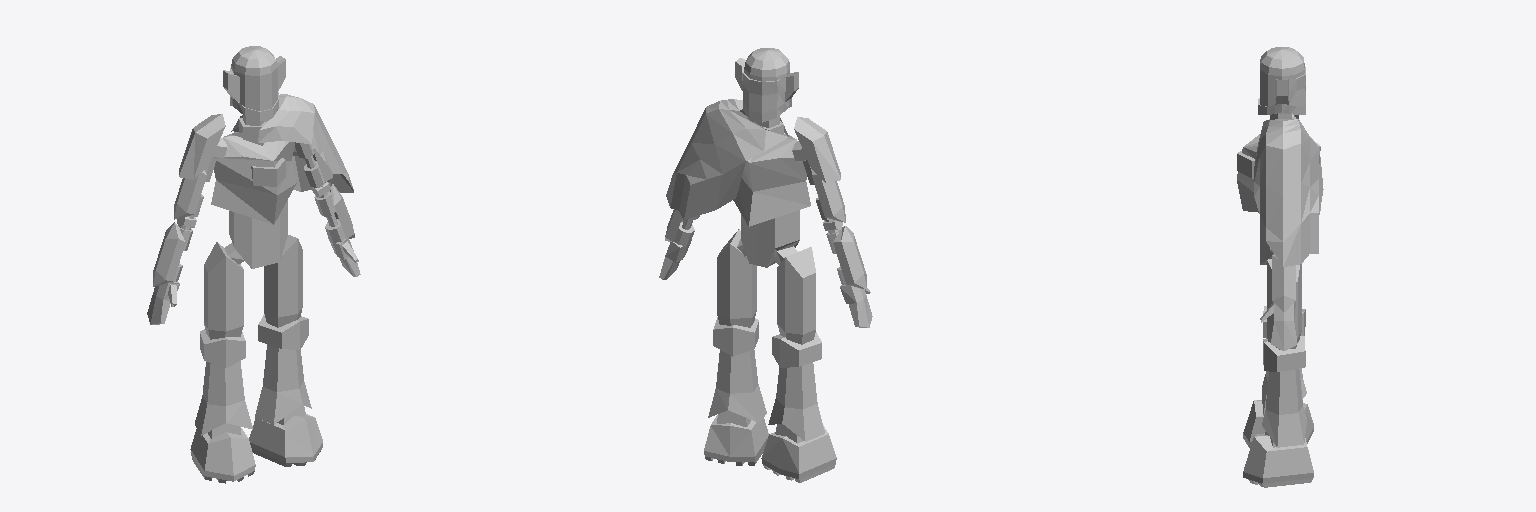
Rendered from CharacterbackuP.obj.
3 views of the same model, side by side, from view 1: azimuth 30°, elevation 25°; view 2: azimuth 150°, elevation 25°; view 3: azimuth 270°, elevation 25° (orthographic).
Parts seen in each view (by area): view 1: UpperTorso, Plane, Head, UpperRightLeg, LowerLeftLeg, LeftFoot, LowerRightLeg, UpperLeftLeg, LowerTorso, RightFoot, RightPauldron, LowerRightArmor (+8 smaller); view 2: Plane, UpperTorso, Head, UpperRightLeg, UpperLeftLeg, LowerRightLeg, LowerLeftLeg, RightFoot, LowerTorso, LeftFoot, RightPauldron, LowerRightArmor (+5 smaller); view 3: Plane, Head, LowerLeftLeg, LeftFoot, UpperTorso, LeftKnee, LeftHand, LowerLeftArmor, UpperLeftLeg, RightFoot.
Part boxes in pixels (x1,y1,x2,y2): UpperTorso: (211, 132, 296, 224); Plane: (231, 94, 353, 192); Head: (223, 46, 285, 121); UpperRightLeg: (204, 242, 243, 339); LowerLeftLeg: (255, 344, 311, 424); LeftFoot: (249, 414, 322, 466); LowerRightLeg: (195, 361, 252, 435); UpperLeftLeg: (264, 235, 302, 327); LowerTorso: (224, 200, 287, 268); RightFoot: (190, 427, 255, 483); RightPauldron: (179, 114, 225, 179); LowerRightArmor: (153, 222, 185, 286); Plane: (666, 99, 788, 219); UpperTorso: (733, 134, 810, 226); Head: (735, 48, 798, 122); UpperRightLeg: (777, 247, 815, 344); UpperLeftLeg: (717, 229, 756, 327); LowerRightLeg: (768, 362, 824, 441); LowerLeftLeg: (708, 350, 766, 423); RightFoot: (761, 425, 836, 482); LowerTorso: (737, 210, 799, 267); LeftFoot: (704, 415, 768, 465); RightPauldron: (794, 117, 840, 182); LowerRightArmor: (833, 226, 866, 289); Plane: (1254, 118, 1323, 266); Head: (1258, 47, 1305, 114); LowerLeftLeg: (1262, 369, 1306, 447); LeftFoot: (1243, 433, 1313, 487); UpperTorso: (1237, 134, 1320, 212); LeftKnee: (1263, 335, 1305, 371); LeftHand: (1260, 301, 1297, 350); LowerLeftArmor: (1272, 254, 1295, 312); UpperLeftLeg: (1267, 259, 1301, 349); RightFoot: (1243, 400, 1313, 447).
Bounding box in the file's own units: 3.4 × 6.46 × 1.24.